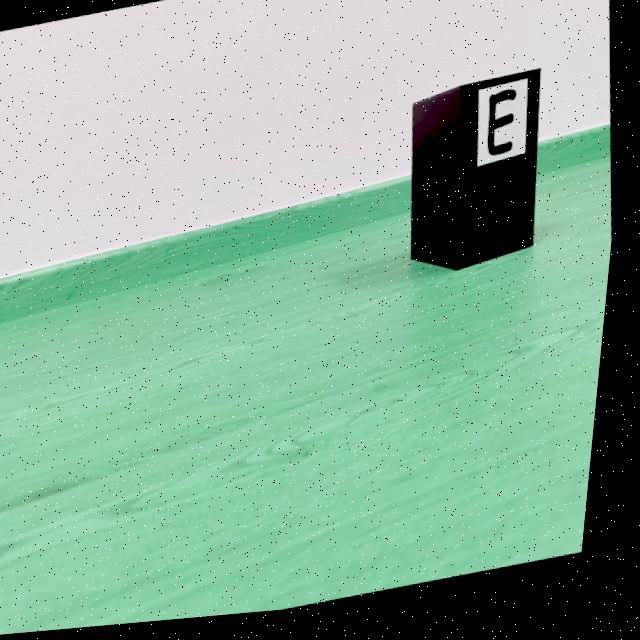E: (490, 98, 519, 165)
